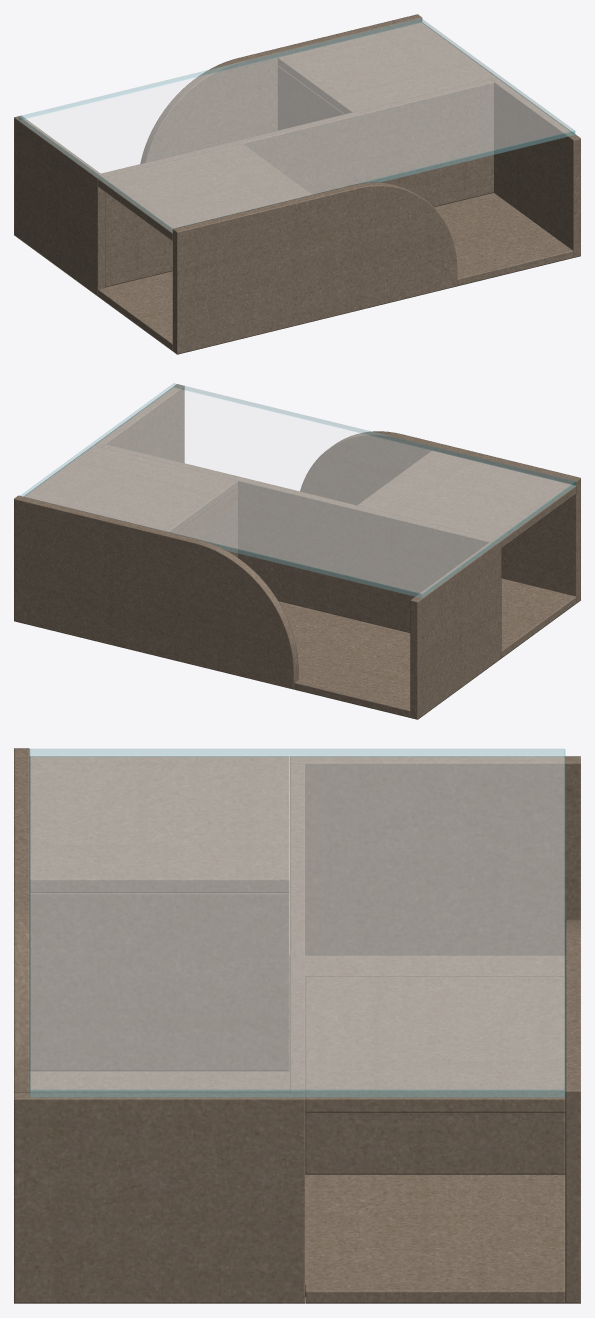
3 views of the same model, one above another, from view 1: azimuth 30°, elevation 25°; view 2: azimuth 150°, elevation 25°; view 3: azimuth 270°, elevation 25° (orthographic). The views are drawn at different scales.
Visible parts, largest first — view 1: 3119060.001; view 2: 3119060.001; view 3: 3119060.001.
Boxes of the visible parts, x1,y1,x2,y2 form: 3119060.001: [14, 14, 580, 354]; 3119060.001: [14, 383, 580, 719]; 3119060.001: [14, 748, 580, 1303].
Bounding box in the file's own units: 1 × 0.29 × 0.7.
3 materials, 1 textured.
